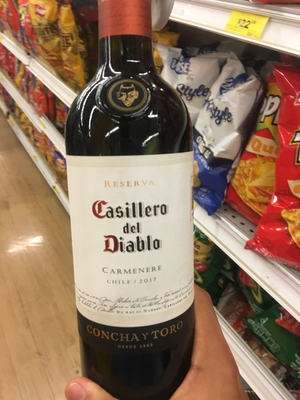casillero del diablo carmenere: (62, 23, 211, 390)
